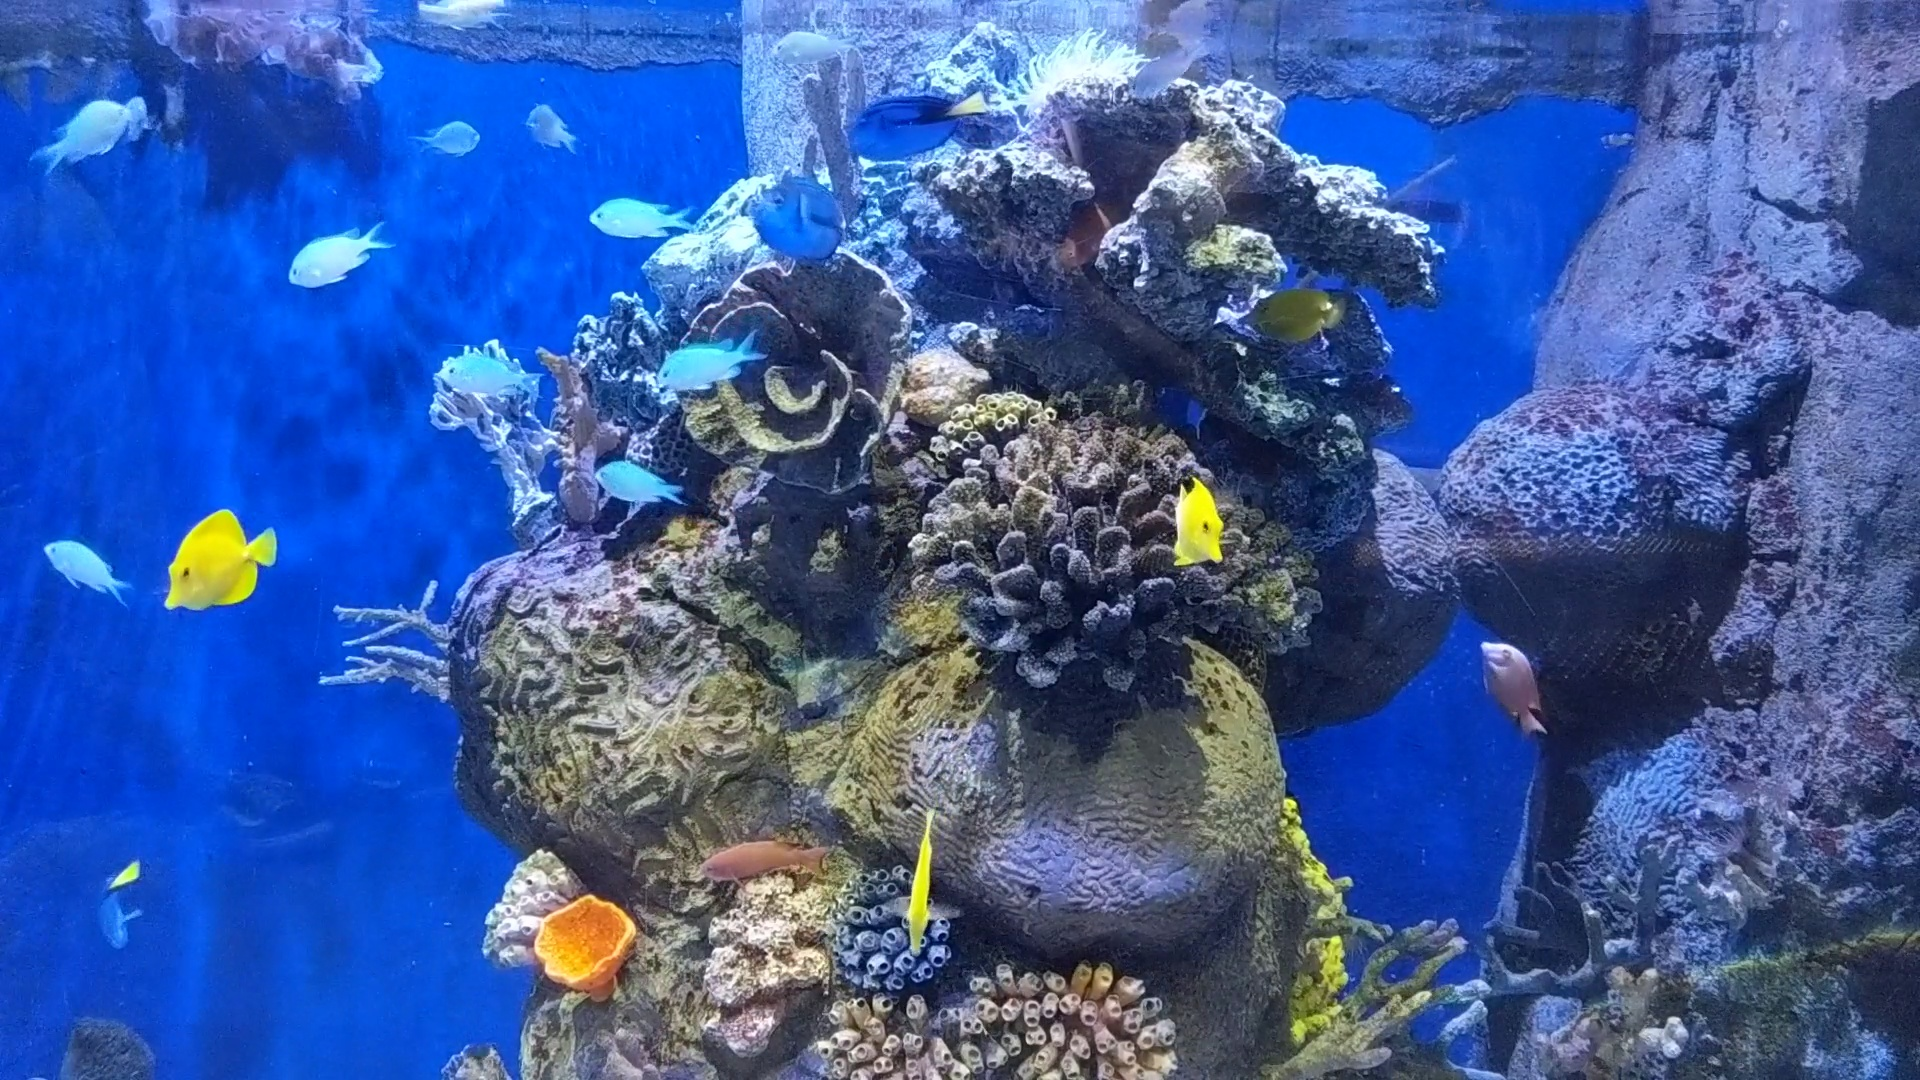blue tang surgeonfish: (825, 83, 1009, 167), (729, 167, 873, 261), (83, 847, 158, 957)
damselfish: (11, 88, 145, 179), (29, 518, 146, 622), (278, 218, 396, 294), (430, 334, 542, 406), (574, 187, 699, 251), (588, 454, 688, 520), (644, 334, 761, 388), (407, 105, 488, 167), (518, 91, 588, 160)
pink fish: (1462, 620, 1556, 731)
saddle butterfly fish: (135, 496, 295, 628), (862, 814, 955, 951), (1236, 265, 1348, 356), (1156, 468, 1246, 582)
